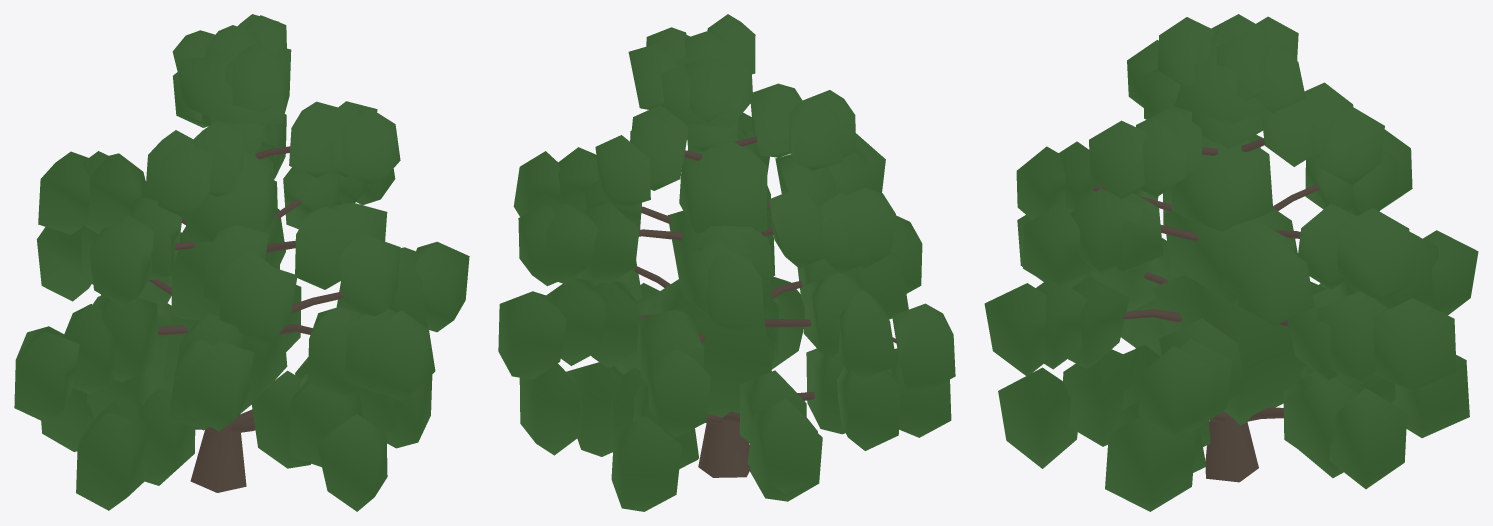
The model's file is Blender_MontereyPine_1_Far.glb.
3 views of the same model, side by side, from view 1: azimuth 30°, elevation 25°; view 2: azimuth 150°, elevation 25°; view 3: azimuth 270°, elevation 25° (orthographic). The views are drawn at different scales.
Visible parts, largest first — view 1: Blender_MontereyPine_1_Far; view 2: Blender_MontereyPine_1_Far; view 3: Blender_MontereyPine_1_Far.
Boxes of the visible parts, <box> form: Blender_MontereyPine_1_Far: <box>14,14,469,511</box>; Blender_MontereyPine_1_Far: <box>498,14,955,511</box>; Blender_MontereyPine_1_Far: <box>984,14,1478,511</box>.
Size of the model in its own units: 21.69 by 21.08 by 20.27.
